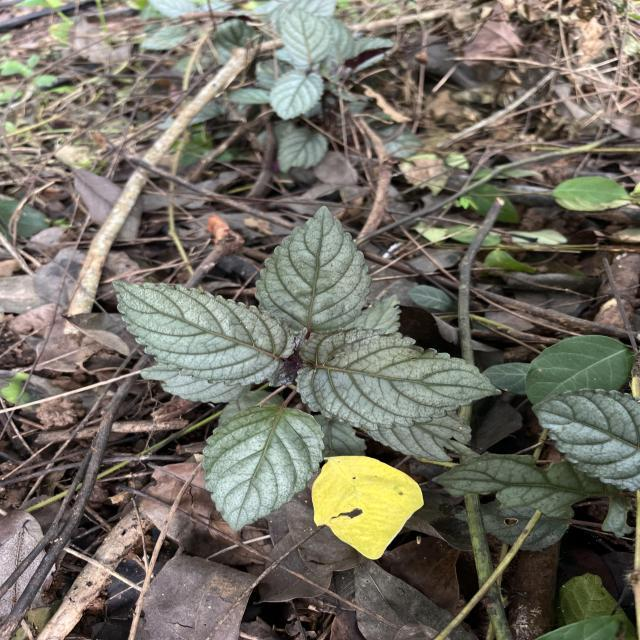Hemigraphis colorata: (293, 323, 504, 433), (109, 278, 298, 388), (200, 400, 326, 532), (252, 203, 374, 335), (530, 387, 640, 492)
